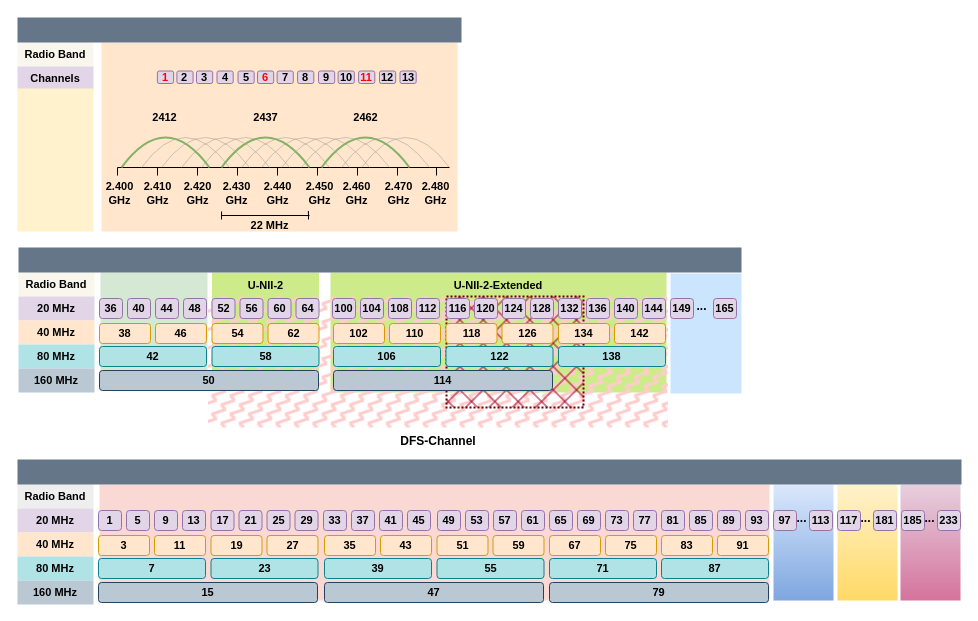
Image size: 978x621. Some labels were removed from this diagram. Here are the shapes that lost their labels. From the top down, the box of each, then its label:
(17, 17, 461, 42): 2.4 GHz Channel Allocations
(101, 42, 457, 231): ISM Band
(17, 88, 93, 231): Visualization
(18, 247, 741, 272): 5 GHz Channel Allocations
(100, 272, 207, 388): U-NII-1
(670, 273, 741, 393): U-NII-3
(445, 295, 584, 408): Weather Radar
(17, 459, 961, 484): 6 GHz Channel Allocations
(99, 484, 769, 600): U-NII-5
(773, 484, 833, 600): U-NII-6
(837, 484, 897, 600): U-NII-7
(900, 484, 960, 600): U-NII-8
